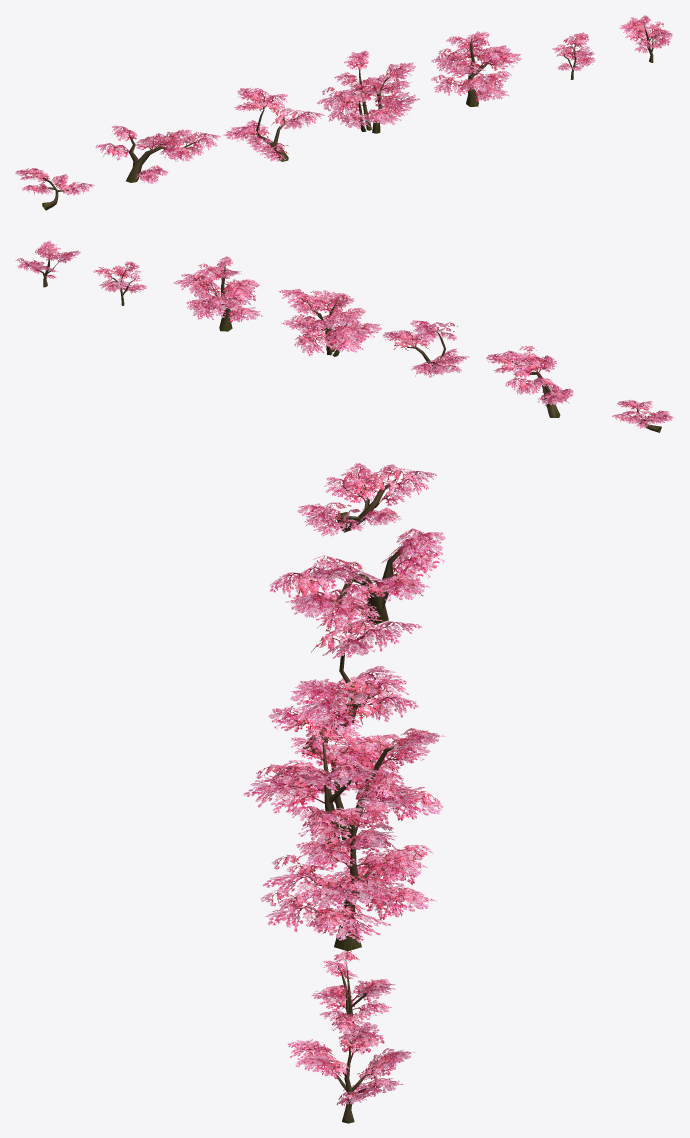
Rendered from M5_P_taohuashu.FBX.
3 views of the same model, one above another, from view 1: azimuth 30°, elevation 25°; view 2: azimuth 150°, elevation 25°; view 3: azimuth 270°, elevation 25° (orthographic). The views are drawn at different scales.
Visible parts, largest first — view 1: M5_P_taohuashuzhongxing02, M5_P_taohuashuzhongxing03, M5_P_taohuashuxie02, M5_P_taohuashuzhongxing01, M5_P_taohuashuxiaoxing02, M5_P_taohuashuxie01, M5_P_taohuashuxiaoxing01; view 2: M5_P_taohuashuzhongxing02, M5_P_taohuashuzhongxing03, M5_P_taohuashuxie02, M5_P_taohuashuzhongxing01, M5_P_taohuashuxie01, M5_P_taohuashuxiaoxing01, M5_P_taohuashuxiaoxing02; view 3: M5_P_taohuashuzhongxing03, M5_P_taohuashuzhongxing02, M5_P_taohuashuzhongxing01, M5_P_taohuashuxie02, M5_P_taohuashuxie01, M5_P_taohuashuxiaoxing02, M5_P_taohuashuxiaoxing01.
Part boxes in pixels (x1,y1,x2,y2): M5_P_taohuashuzhongxing02: (316,50,419,133); M5_P_taohuashuzhongxing03: (431,31,521,106); M5_P_taohuashuxie02: (95,125,220,183); M5_P_taohuashuzhongxing01: (223,87,324,161); M5_P_taohuashuxiaoxing02: (619,15,672,62); M5_P_taohuashuxie01: (15,168,94,210); M5_P_taohuashuxiaoxing01: (552,32,595,79); M5_P_taohuashuzhongxing02: (278,289,381,356); M5_P_taohuashuzhongxing03: (173,256,263,331); M5_P_taohuashuxie02: (486,346,573,417); M5_P_taohuashuzhongxing01: (382,320,469,377); M5_P_taohuashuxie01: (612,400,674,432); M5_P_taohuashuxiaoxing01: (93,261,146,305); M5_P_taohuashuxiaoxing02: (15,240,80,287); M5_P_taohuashuzhongxing03: (260,798,436,951); M5_P_taohuashuzhongxing02: (243,724,445,849); M5_P_taohuashuzhongxing01: (268,613,421,755); M5_P_taohuashuxie02: (269,528,445,628); M5_P_taohuashuxie01: (297,463,436,536); M5_P_taohuashuxiaoxing02: (287,1022,415,1123); M5_P_taohuashuxiaoxing01: (311,951,395,1043).
Size of the model in its own units: 4547 by 465 by 650.
